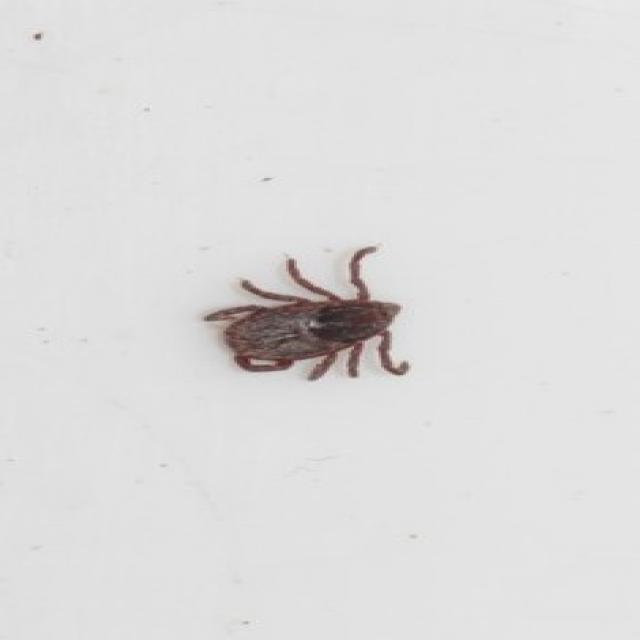Rhipicephalus Sanguineus-F: (202, 247, 411, 383)
